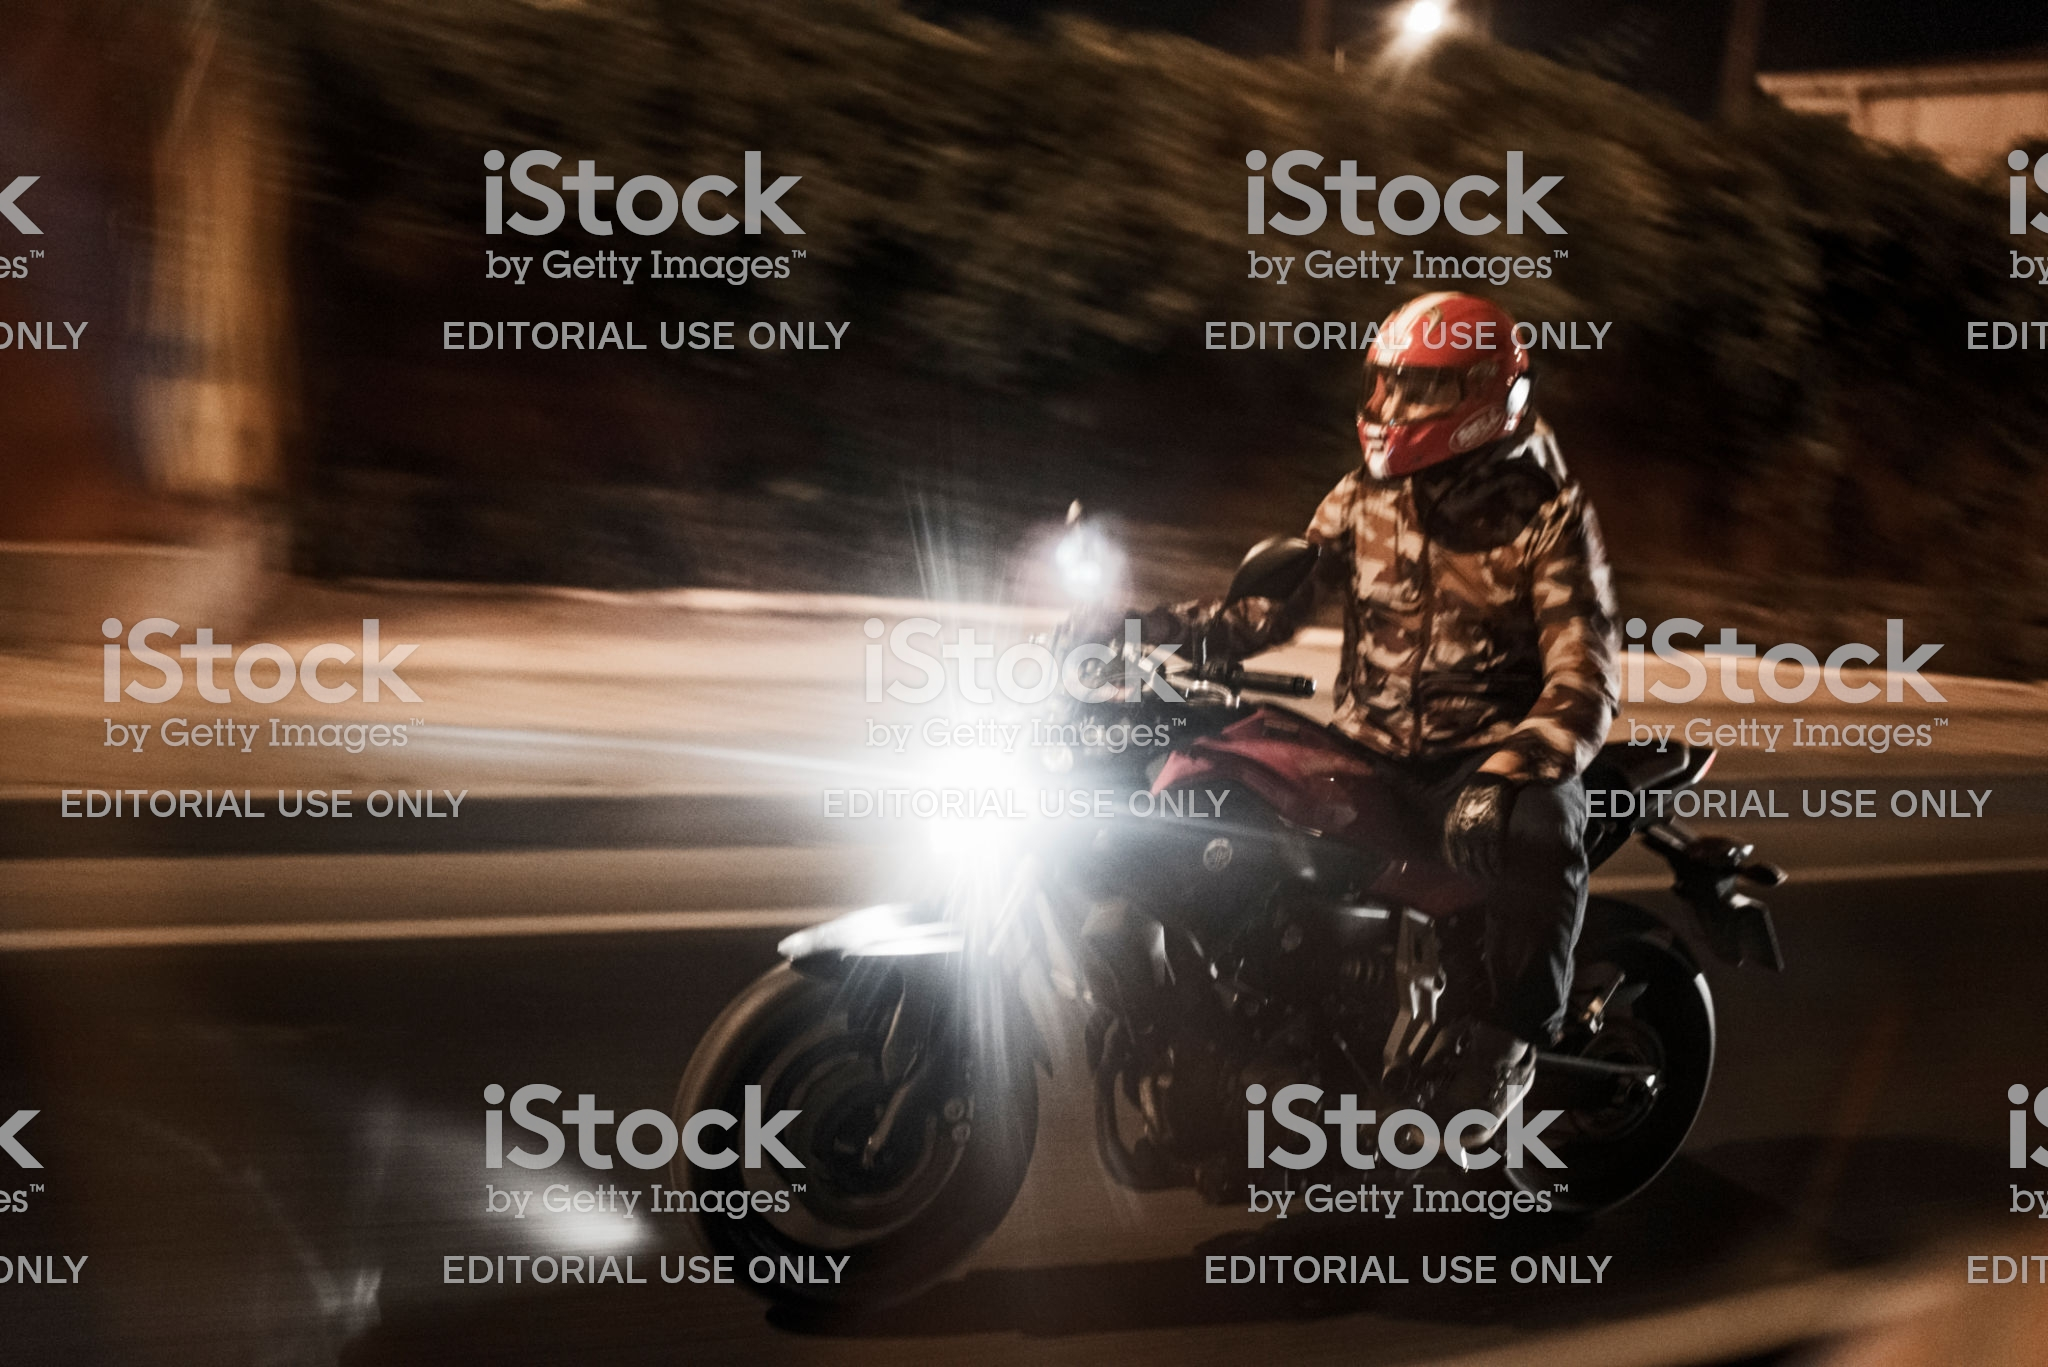helmet: (1324, 291, 1563, 491)
